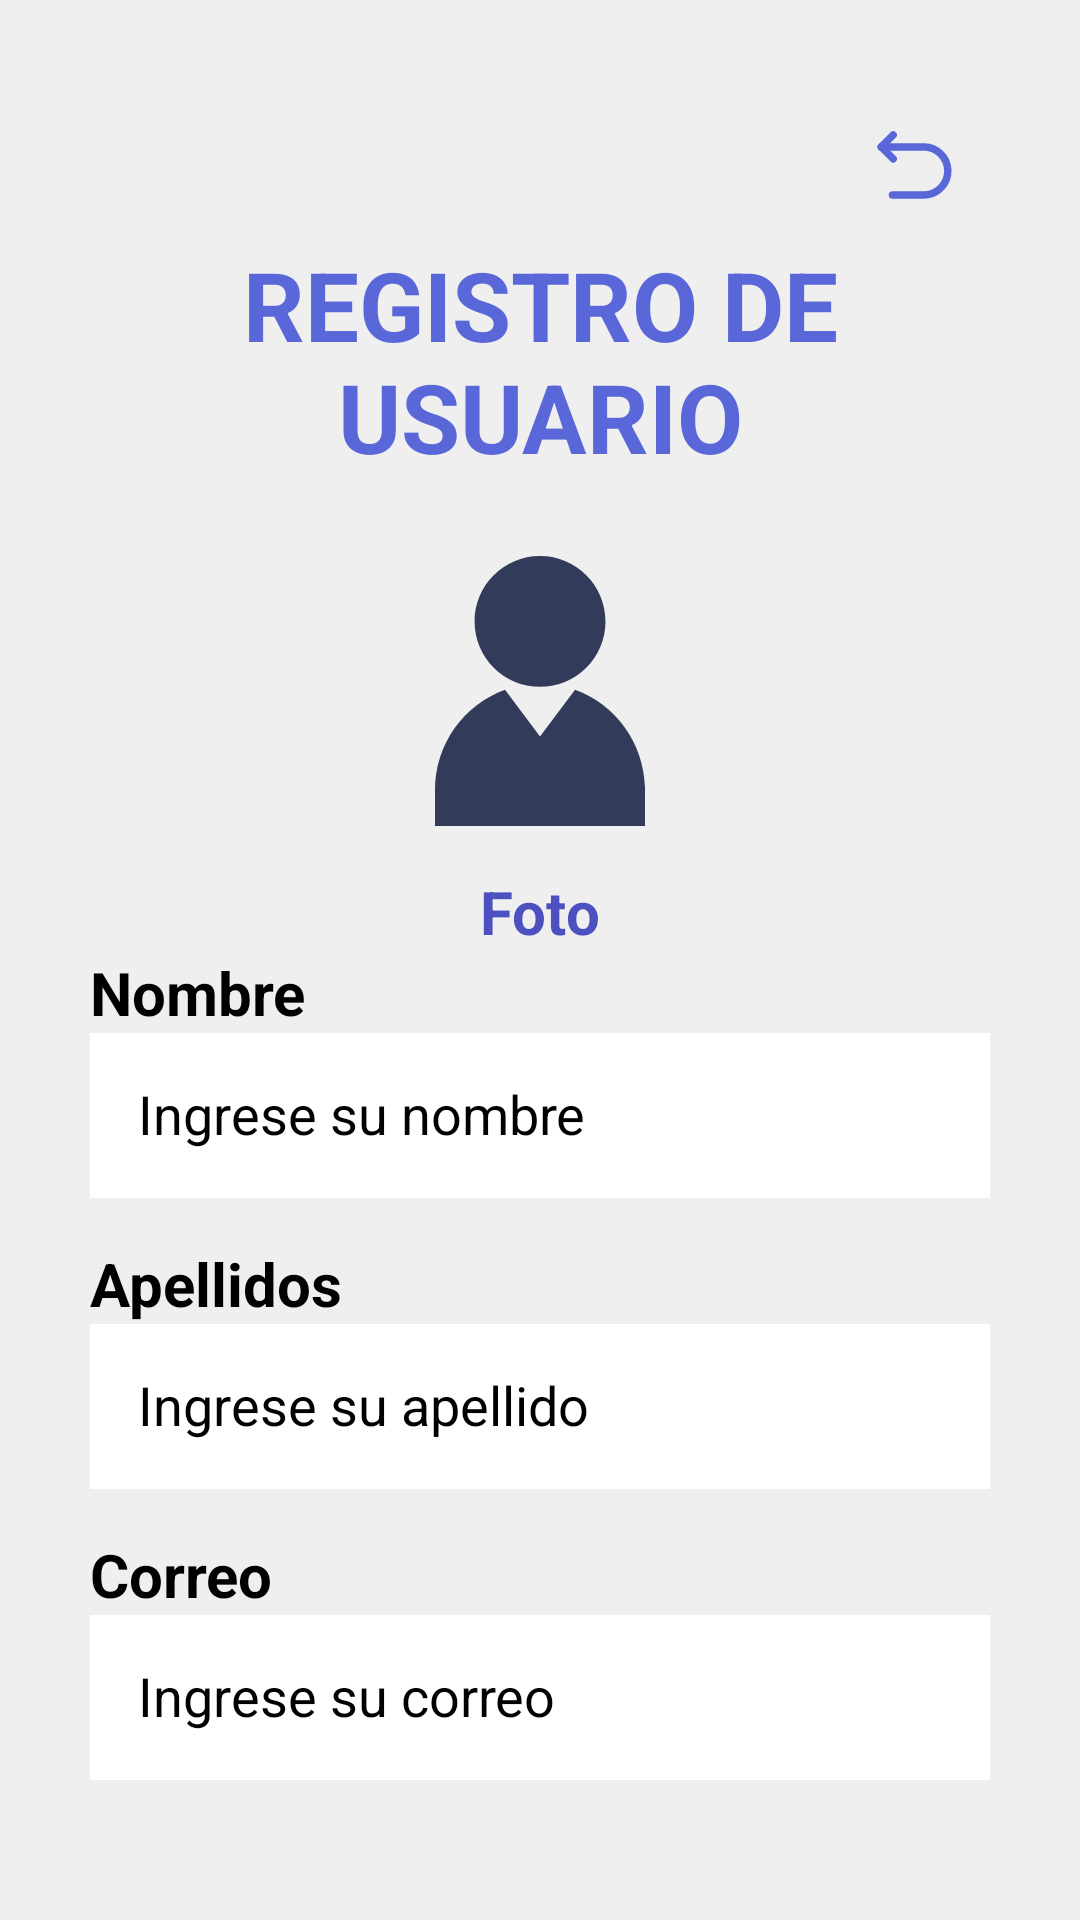

Icons on this 1080×1920 Android screen, each with its box as region(x1, y1, x2, y2):
return: region(877, 131, 952, 199)
user: region(435, 556, 645, 826)
